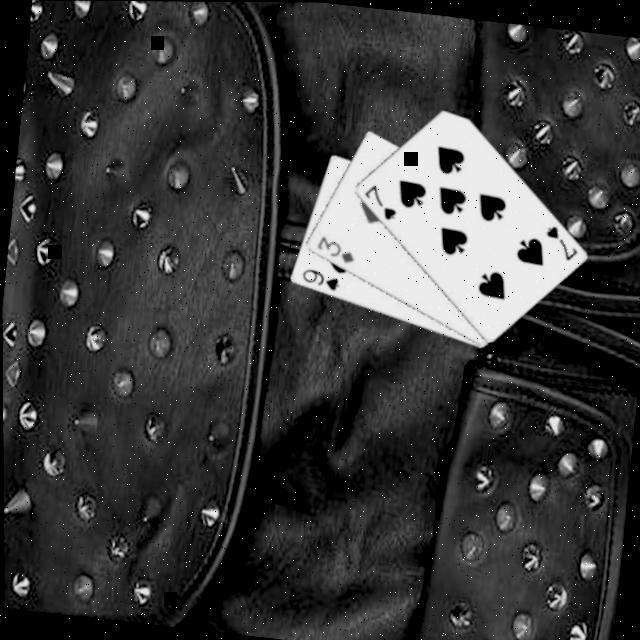3D: (310, 232, 357, 267)
7S: (356, 180, 399, 223), (537, 221, 580, 264)
9S: (296, 266, 342, 294)
